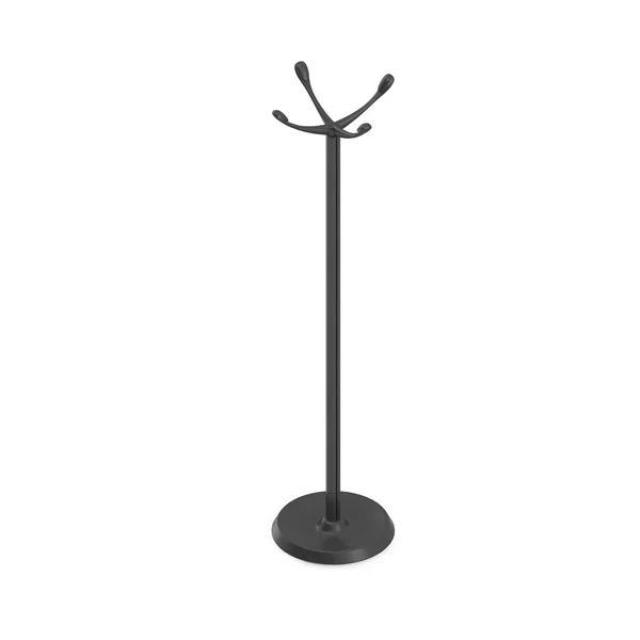Pole: (272, 61, 395, 565)
